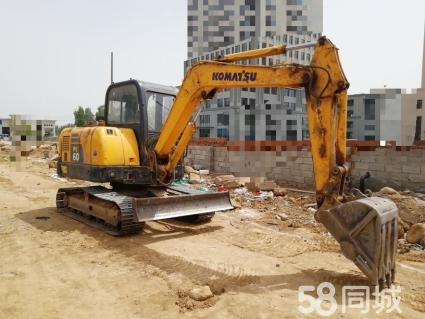excavator: (49, 43, 403, 295)
